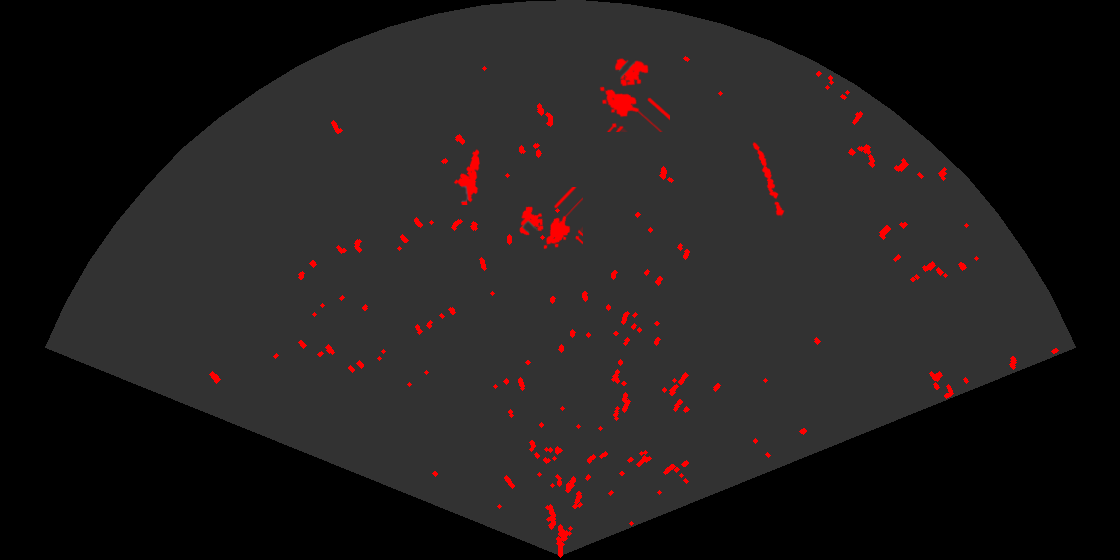cage: (598, 57, 670, 132), (518, 187, 583, 251)
chain: (751, 140, 786, 218)
frogman: (452, 147, 481, 205)
